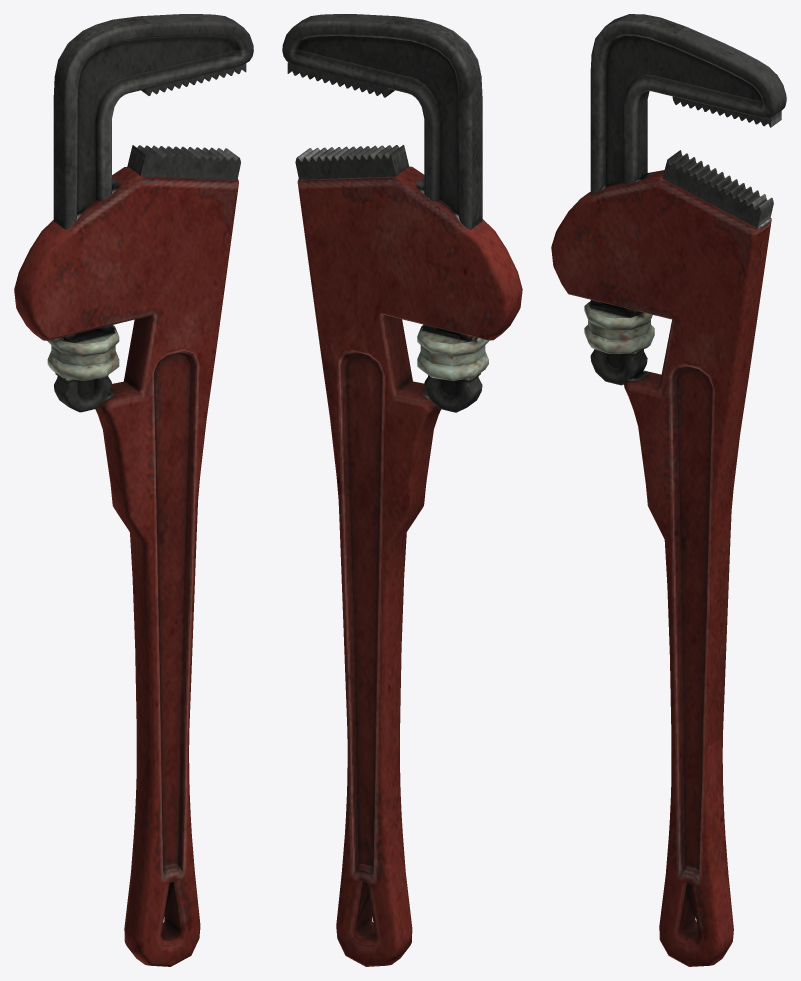
The model's file is pickupWrench.fbx.
3 views of the same model, side by side, from view 1: azimuth 30°, elevation 25°; view 2: azimuth 150°, elevation 25°; view 3: azimuth 330°, elevation 25° (orthographic). The views are drawn at different scales.
Parts seen in each view (by area): view 1: pickupWrench; view 2: pickupWrench; view 3: pickupWrench.
Part boxes in pixels (x1,y1,x2,y2): pickupWrench: (14,14,253,966); pickupWrench: (282,14,522,966); pickupWrench: (551,14,786,966).
Size of the model in its own units: 12.58 by 49.96 by 3.41.
